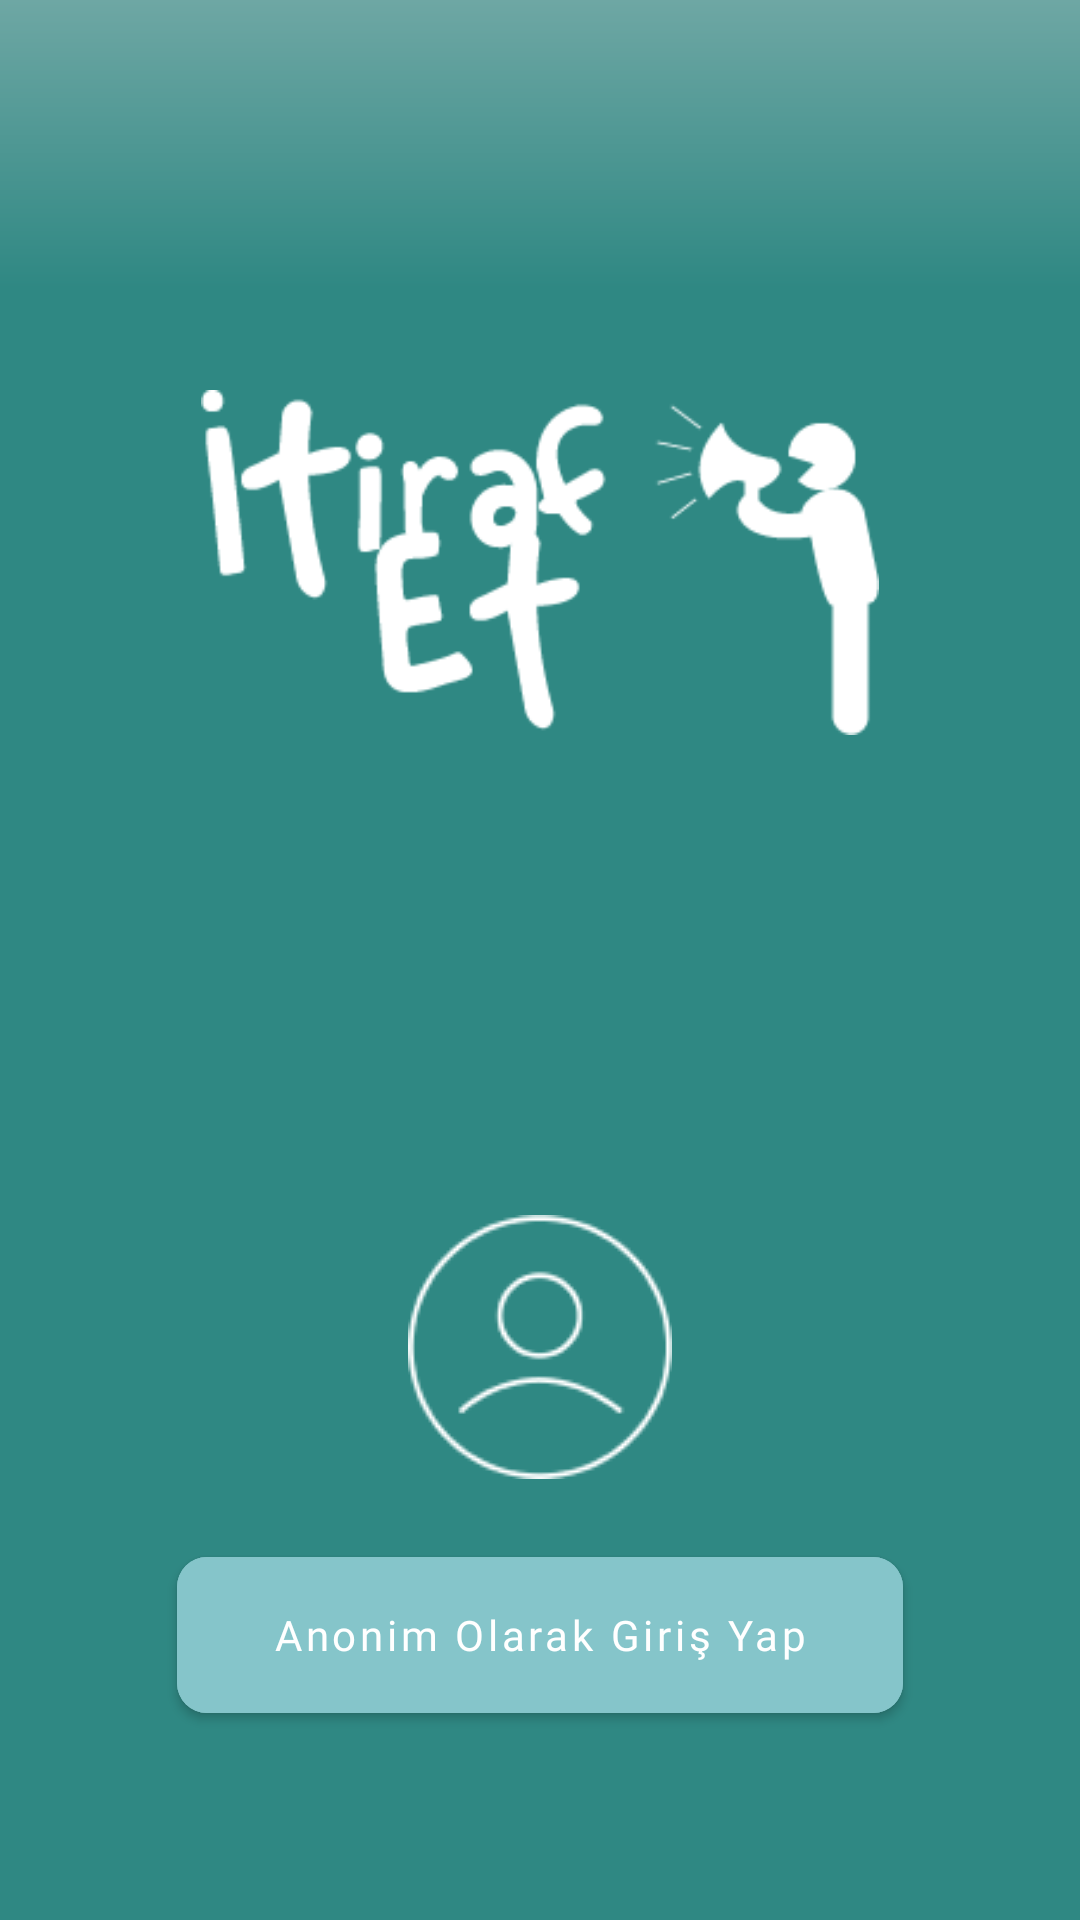

Where icons sit on this 1080w x 1920h app screen, as [left=x1, top=y1, right=x2, bottom=y2]:
person: [left=408, top=1215, right=672, bottom=1479]
